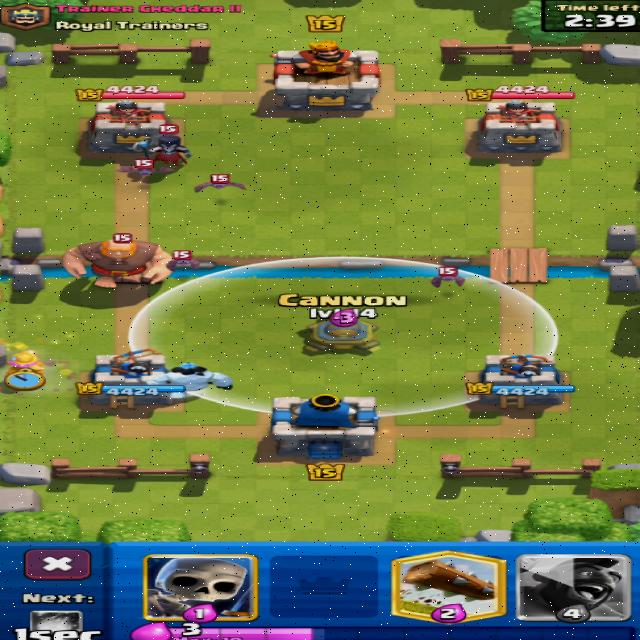Enemy-Bat: (117, 158, 173, 176), (431, 267, 464, 288), (167, 251, 199, 269), (195, 182, 245, 192)
Enemy-Giant: (63, 237, 170, 287)
Enemy-KingTower: (273, 40, 379, 110)
Enemy-NightWitch: (133, 135, 191, 162)
Enemy-PrincessTower: (474, 101, 561, 158), (90, 99, 170, 156)
Player-IceGolem: (150, 363, 232, 391)
Player-KingTower: (271, 393, 378, 459)
Player-Musketeer: (8, 350, 43, 374)
Player-PrincessTower: (76, 349, 184, 409), (479, 356, 573, 408)
